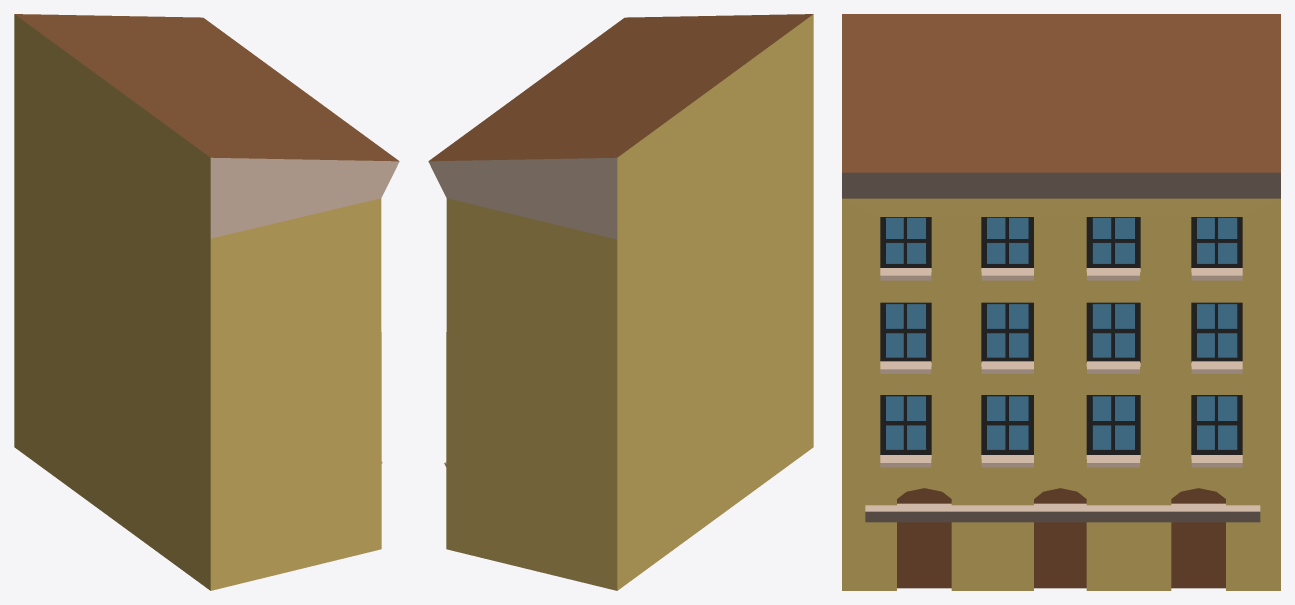
Rendered from BigYellow.obj.
3 views of the same model, side by side, from view 1: azimuth 30°, elevation 25°; view 2: azimuth 150°, elevation 25°; view 3: azimuth 270°, elevation 25° (orthographic). The views are drawn at different scales.
Parts seen in each view (by area): view 1: DuzyZwyklyZolty; view 2: DuzyZwyklyZolty; view 3: DuzyZwyklyZolty.
Boxes of the visible parts, x1=… form: DuzyZwyklyZolty: x1=14, y1=14, x2=399, y2=590; DuzyZwyklyZolty: x1=428, y1=14, x2=813, y2=590; DuzyZwyklyZolty: x1=842, y1=14, x2=1280, y2=590.
Bounding box in the file's own units: 6.09 × 13.33 × 10.96.
